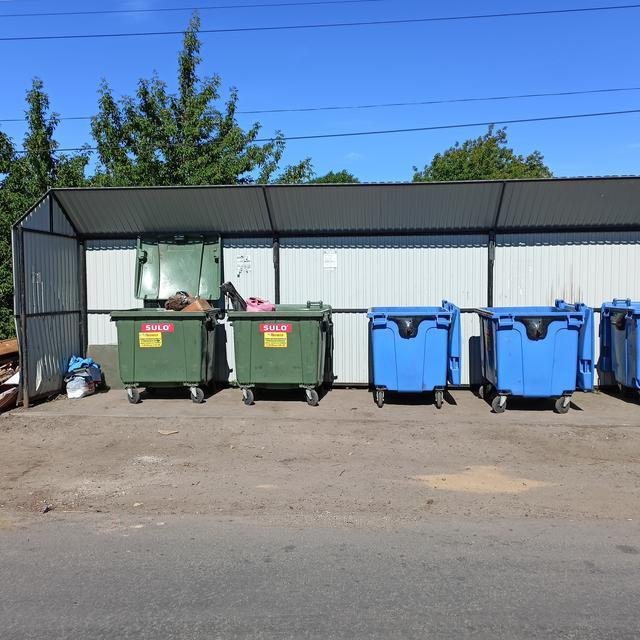Trash_Can_Empty: (475, 304, 584, 398), (367, 305, 453, 393), (607, 303, 640, 389)
Trash_Can_Full: (228, 281, 332, 387), (109, 290, 220, 386)
